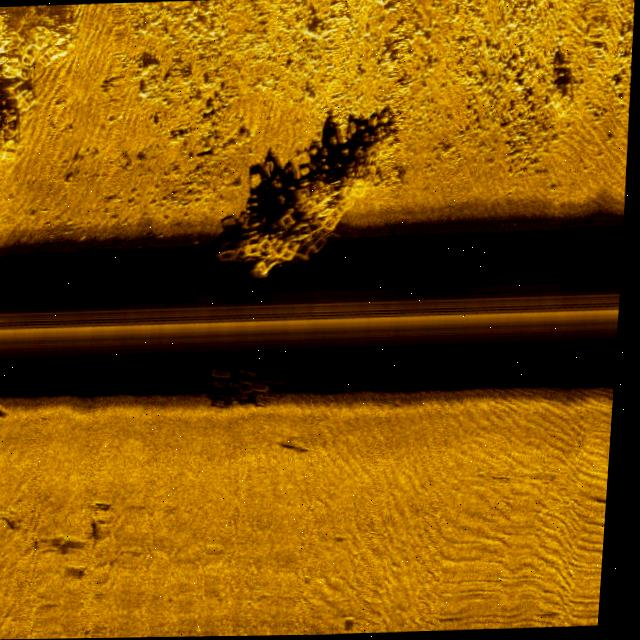artificial reef: (202, 116, 394, 269), (0, 3, 78, 155), (206, 350, 303, 395)
